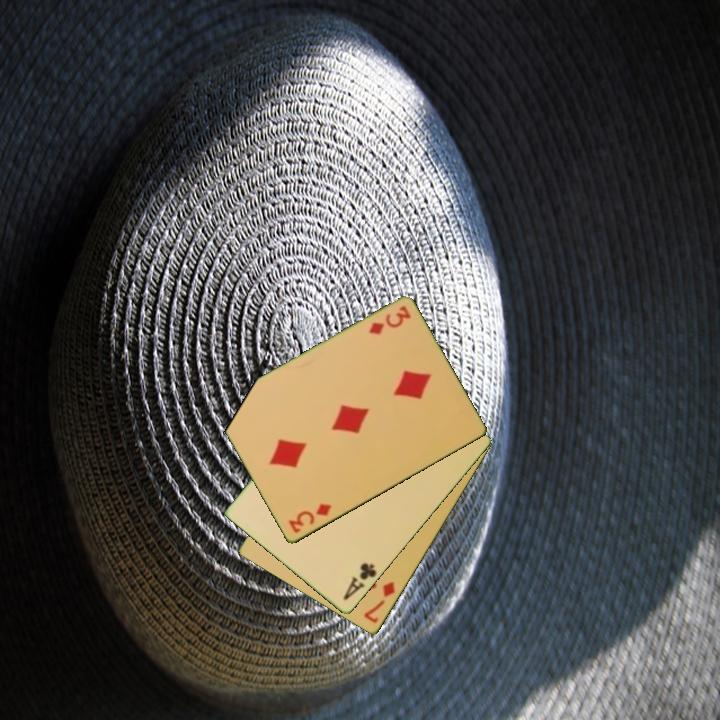3d: (285, 500, 334, 537), (365, 302, 414, 338)
7d: (360, 578, 398, 626)
Ac: (340, 559, 380, 604)
